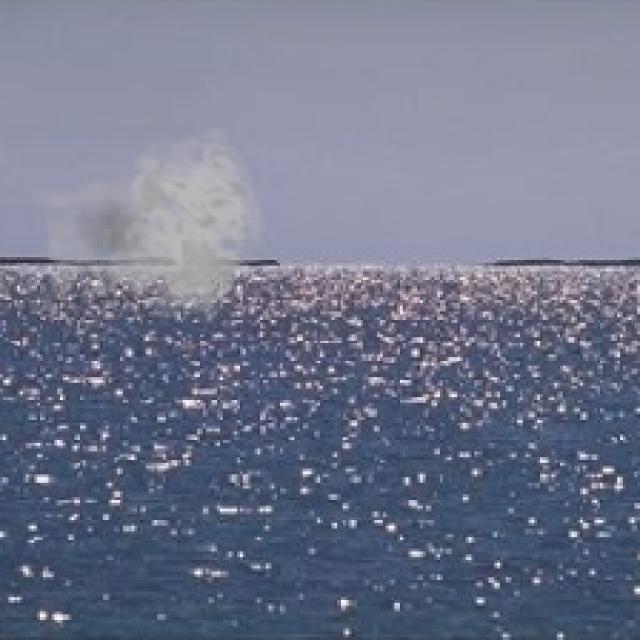smoke: (25, 126, 268, 331)
